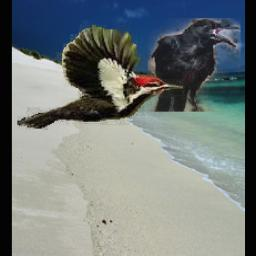Crow: (148, 19, 241, 113)
Woodpecker: (17, 26, 185, 131)
